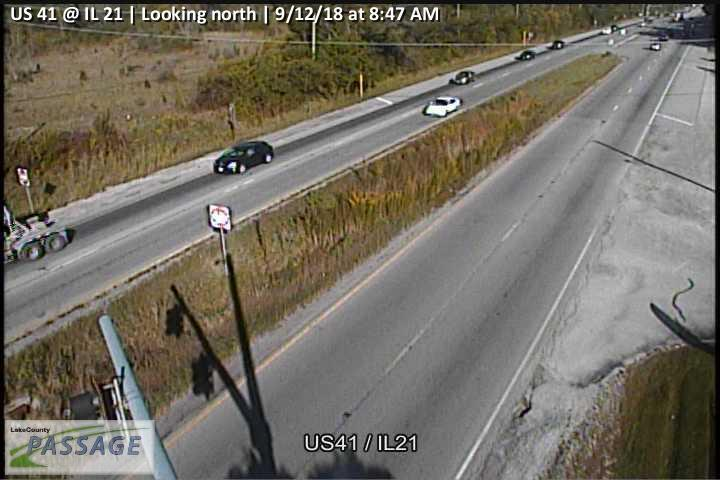Sedan: (213, 138, 274, 175), (422, 95, 463, 116), (450, 68, 475, 86)
